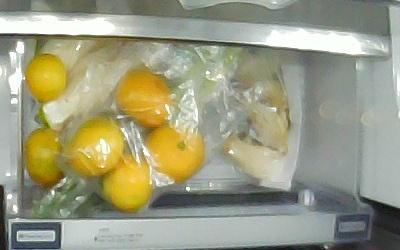tangerine: (23, 125, 66, 186), (23, 52, 66, 102)
tangerine_vinyl: (140, 118, 205, 183), (62, 111, 125, 178), (112, 65, 174, 128), (98, 148, 155, 212)
